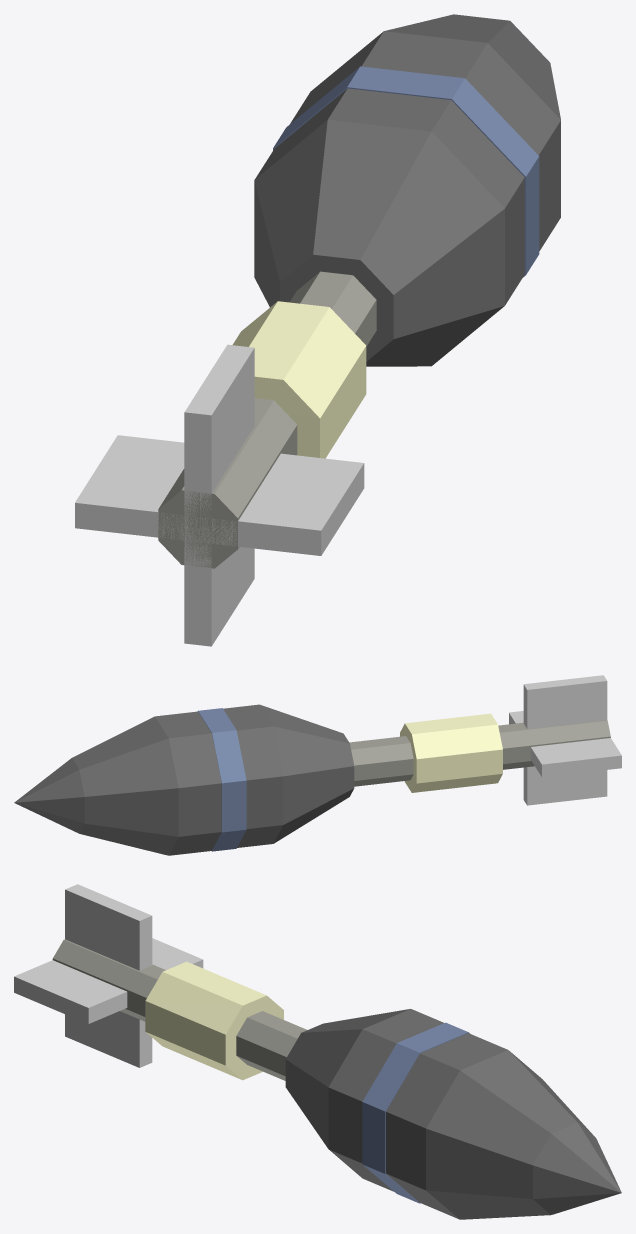
File: ce_ammo_mortar_antigrain_a.obj
The picture shows the model from 3 angles, top to bottom: view 1: azimuth 30°, elevation 25°; view 2: azimuth 150°, elevation 25°; view 3: azimuth 270°, elevation 25°; orthographic projection. The views are drawn at different scales.
Visible parts, largest first — view 1: ce_ammo_mortar_antigrain_a_2, ce_ammo_mortar_antigrain_a_8, ce_ammo_mortar_antigrain_a_9, ce_ammo_mortar_antigrain_a_1, ce_ammo_mortar_antigrain_a_0, ce_ammo_mortar_antigrain_a_5, ce_ammo_mortar_antigrain_a_3, ce_ammo_mortar_antigrain_a_4, ce_ammo_mortar_antigrain_a_6; view 2: ce_ammo_mortar_antigrain_a_6, ce_ammo_mortar_antigrain_a_2, ce_ammo_mortar_antigrain_a_1, ce_ammo_mortar_antigrain_a_9, ce_ammo_mortar_antigrain_a_5, ce_ammo_mortar_antigrain_a_0, ce_ammo_mortar_antigrain_a_3, ce_ammo_mortar_antigrain_a_4, ce_ammo_mortar_antigrain_a_8, ce_ammo_mortar_antigrain_a_7; view 3: ce_ammo_mortar_antigrain_a_6, ce_ammo_mortar_antigrain_a_1, ce_ammo_mortar_antigrain_a_9, ce_ammo_mortar_antigrain_a_5, ce_ammo_mortar_antigrain_a_3, ce_ammo_mortar_antigrain_a_0, ce_ammo_mortar_antigrain_a_7, ce_ammo_mortar_antigrain_a_2, ce_ammo_mortar_antigrain_a_8, ce_ammo_mortar_antigrain_a_4.
Part boxes in pixels (x1,y1,x2,y2): ce_ammo_mortar_antigrain_a_2: [254, 119, 504, 366]; ce_ammo_mortar_antigrain_a_8: [75, 435, 364, 555]; ce_ammo_mortar_antigrain_a_9: [184, 344, 254, 646]; ce_ammo_mortar_antigrain_a_1: [232, 301, 366, 458]; ce_ammo_mortar_antigrain_a_0: [158, 271, 376, 568]; ce_ammo_mortar_antigrain_a_5: [290, 31, 560, 250]; ce_ammo_mortar_antigrain_a_3: [255, 88, 524, 305]; ce_ammo_mortar_antigrain_a_4: [273, 66, 539, 277]; ce_ammo_mortar_antigrain_a_6: [384, 14, 560, 119]; ce_ammo_mortar_antigrain_a_6: [72, 716, 178, 855]; ce_ammo_mortar_antigrain_a_2: [260, 704, 354, 843]; ce_ammo_mortar_antigrain_a_1: [400, 713, 502, 792]; ce_ammo_mortar_antigrain_a_9: [523, 675, 607, 805]; ce_ammo_mortar_antigrain_a_5: [155, 711, 221, 855]; ce_ammo_mortar_antigrain_a_0: [349, 720, 610, 786]; ce_ammo_mortar_antigrain_a_3: [223, 704, 283, 847]; ce_ammo_mortar_antigrain_a_4: [197, 708, 246, 851]; ce_ammo_mortar_antigrain_a_8: [509, 711, 621, 777]; ce_ammo_mortar_antigrain_a_7: [14, 758, 84, 833]; ce_ammo_mortar_antigrain_a_6: [426, 1050, 595, 1219]; ce_ammo_mortar_antigrain_a_1: [145, 961, 283, 1080]; ce_ammo_mortar_antigrain_a_9: [65, 884, 152, 1067]; ce_ammo_mortar_antigrain_a_5: [386, 1033, 507, 1219]; ce_ammo_mortar_antigrain_a_3: [328, 1009, 443, 1191]; ce_ammo_mortar_antigrain_a_0: [52, 939, 307, 1080]; ce_ammo_mortar_antigrain_a_7: [533, 1122, 621, 1214]; ce_ammo_mortar_antigrain_a_2: [285, 1009, 409, 1148]; ce_ammo_mortar_antigrain_a_8: [14, 938, 203, 1023]; ce_ammo_mortar_antigrain_a_4: [362, 1022, 469, 1203].
Bounding box in the file's own units: 0.7495 × 0.2052 × 0.7495.
